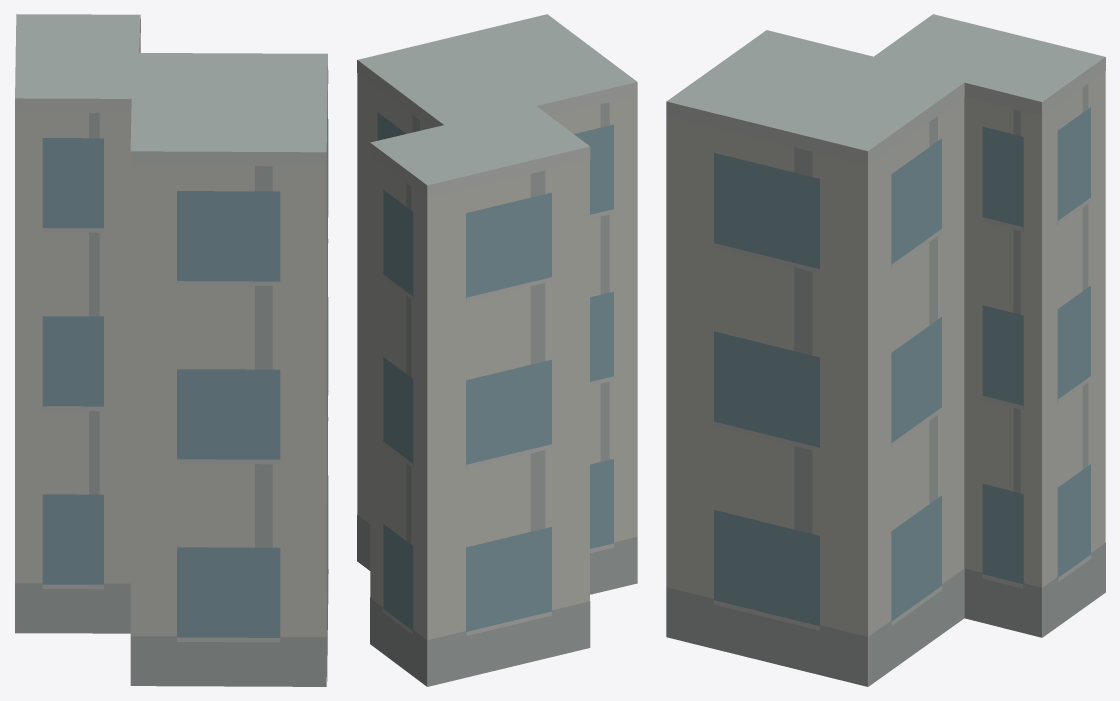
File: survey-upis-32821681.glb
3 renders of one model, left to right at view 1: azimuth 30°, elevation 25°; view 2: azimuth 150°, elevation 25°; view 3: azimuth 270°, elevation 25°, orthographic. The views are drawn at different scales.
Visible parts, largest first — view 1: survey-upis-32821681.tmp; view 2: survey-upis-32821681.tmp; view 3: survey-upis-32821681.tmp.
Boxes of the visible parts, x1,y1,x2,y2 form: survey-upis-32821681.tmp: (15, 14, 328, 686); survey-upis-32821681.tmp: (357, 14, 637, 686); survey-upis-32821681.tmp: (666, 14, 1105, 686).
Size of the model in its own units: 5.04 by 9.15 by 6.81.
